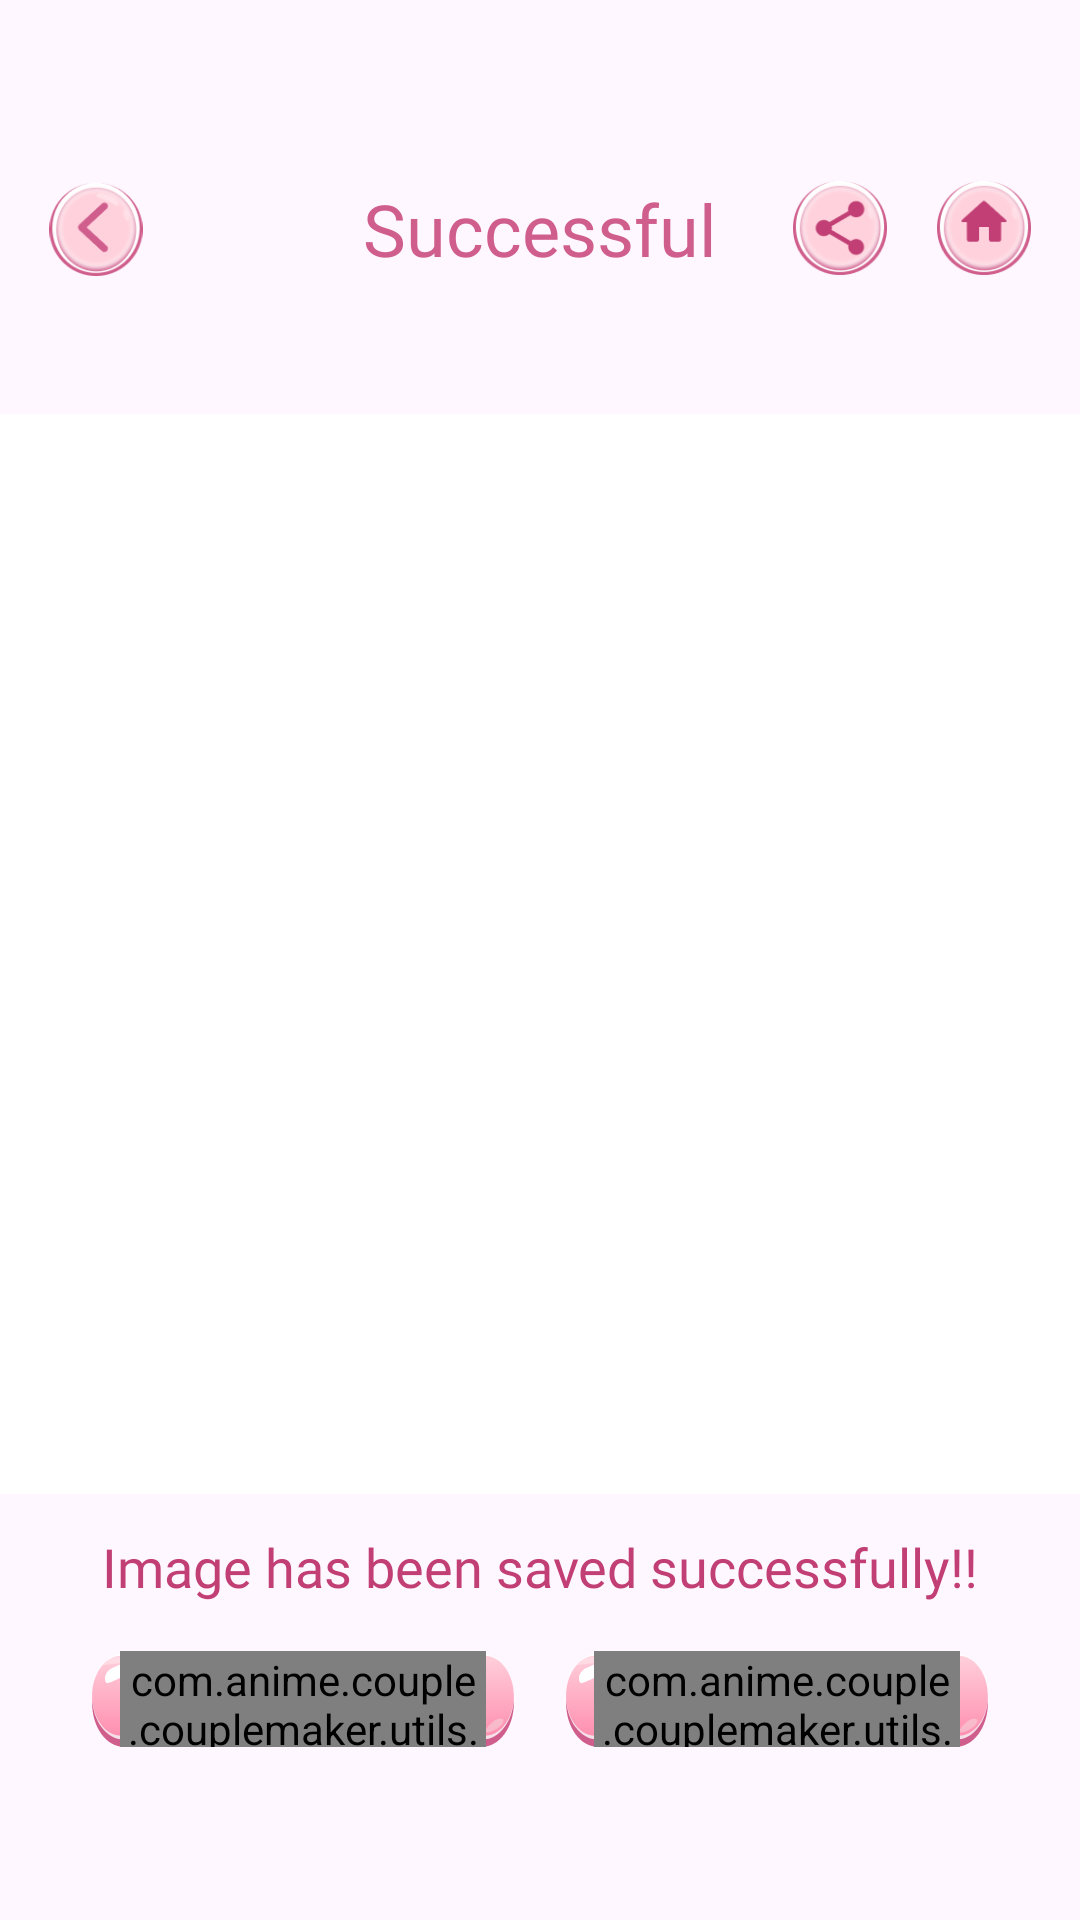

Where to tap for icons on this 1080*1920 app screen, as point (x, y):
back app: point (96, 231)
imv home: point (984, 229)
imv share: point (840, 229)
